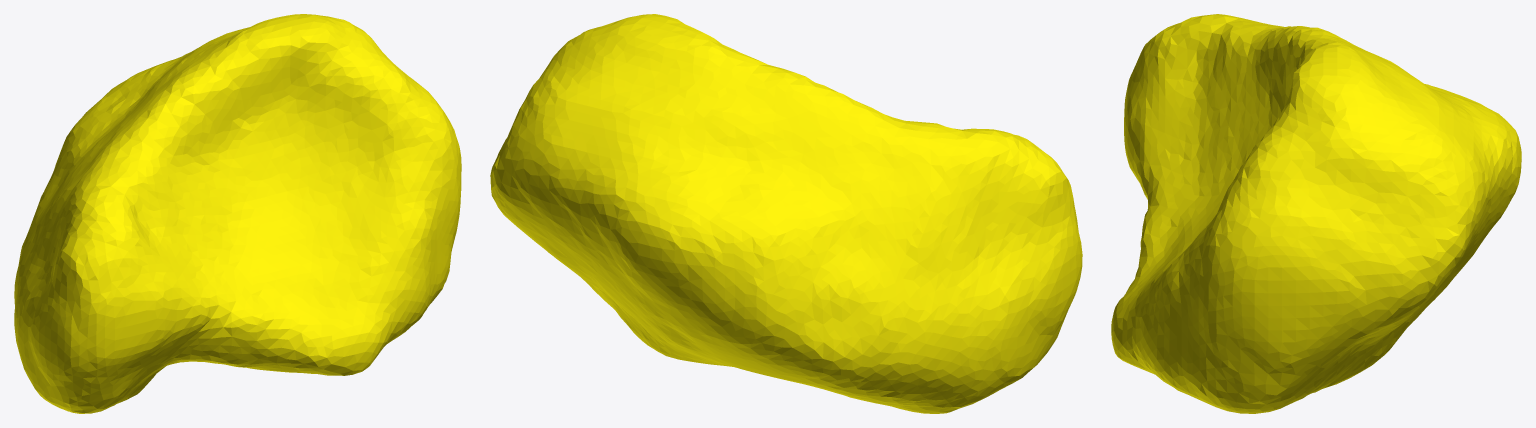
Rendered from Navicular-2-remesh-10K-smooth.fbx.
The picture shows the model from 3 angles, left to right: view 1: azimuth 30°, elevation 25°; view 2: azimuth 150°, elevation 25°; view 3: azimuth 270°, elevation 25°; orthographic projection. The views are drawn at different scales.
Visible parts, largest first — view 1: node_id46; view 2: node_id46; view 3: node_id46.
Boxes of the visible parts, box(x1,y1,x2,y2) form: node_id46: box(14, 14, 461, 413); node_id46: box(490, 14, 1082, 413); node_id46: box(1111, 14, 1521, 413).
Size of the model in its own units: 0.512 by 0.3415 by 0.3712.
1 material, 1 textured.
